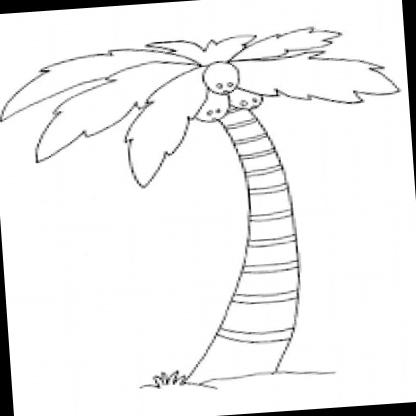crown_dizzy: (0, 20, 411, 198)
root_none: (166, 356, 312, 396)
trunk_bark: (228, 171, 315, 273)
